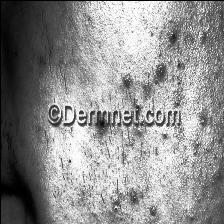Non-Cancerous Skin Condition: (155, 65, 164, 75), (170, 29, 174, 41), (99, 118, 102, 128)
